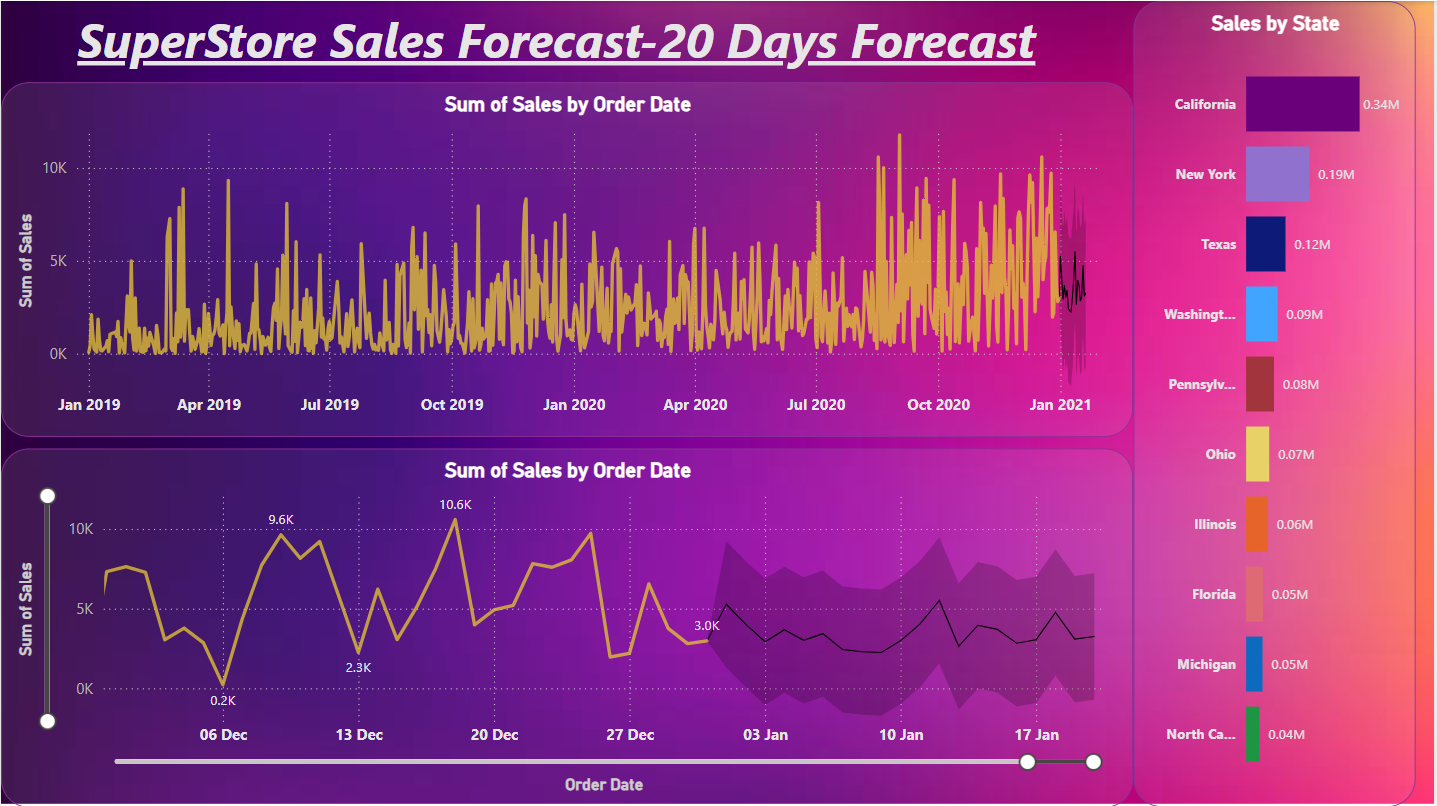

Layout of this report page (visuals, bound fields, positions):
{"tool":"powerbi","page":{"name":"Page 2","canvas":[1280,720],"ordinal":1},"visuals":[{"type":"lineChart","fields":{"Y":["Sum(SuperStore_Sales_Dataset.Sales)"],"Category":["SuperStore_Sales_Dataset.Order Date"]},"box":[0,72.7,1011.3,317],"z":0},{"type":"lineChart","fields":{"Y":["Sum(SuperStore_Sales_Dataset.Sales)"],"Category":["SuperStore_Sales_Dataset.Order Date"]},"box":[0,399.3,1011.3,321.1],"z":1000},{"type":"clusteredBarChart","title":" Sales by State","fields":{"Y":["Sum(SuperStore_Sales_Dataset.Sales)"],"Category":["SuperStore_Sales_Dataset.State"]},"box":[1011.6,0,252.3,719.8],"z":2000},{"type":"textbox","box":[0,0,992.1,87.8],"z":2001}]}

Visuals, with their boxes in screenshot pixels (x1, y1, x2, y2), scaled from the page's 1280x720 canvas onto the 1437x806 screenshot:
lineChart - Sum(SuperStore_Sales_Dataset.Sales) x SuperStore_Sales_Dataset.Order Date: box(0, 81, 1135, 436)
lineChart - Sum(SuperStore_Sales_Dataset.Sales) x SuperStore_Sales_Dataset.Order Date: box(0, 447, 1135, 805)
" Sales by State" clusteredBarChart: box(1136, 0, 1419, 805)
textbox: box(0, 0, 1114, 98)
